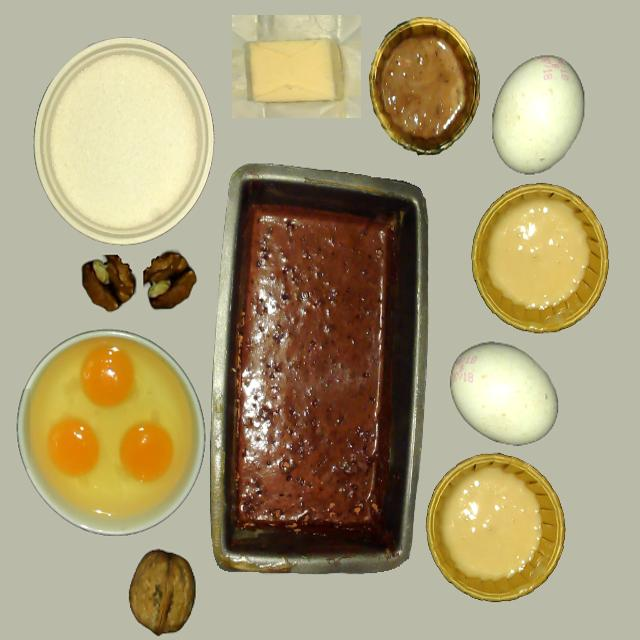Egg: (43, 411, 110, 483), (80, 345, 136, 407), (118, 421, 174, 482)
Sugar: (28, 41, 222, 241)
Walnut: (115, 547, 199, 635)
